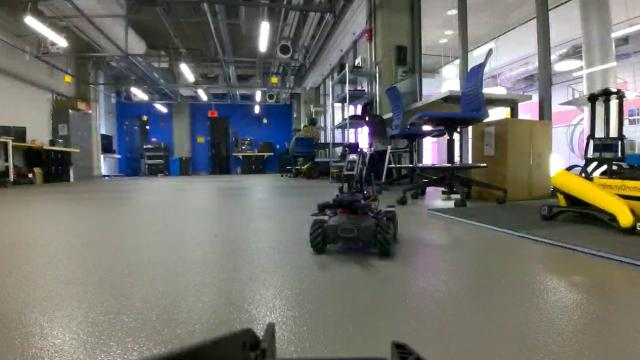robot: (303, 153, 401, 261)
